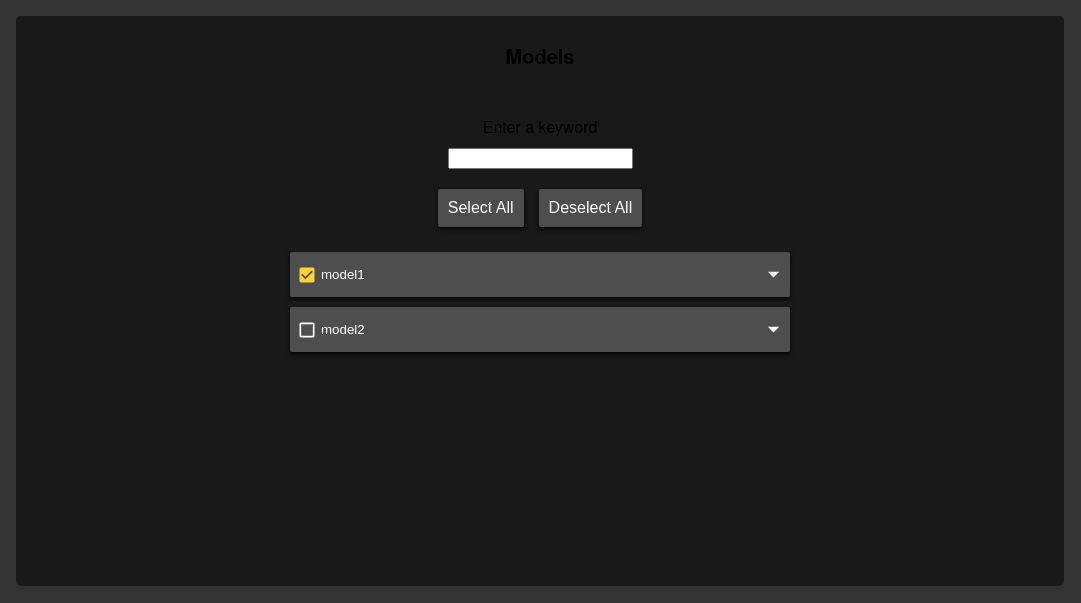
it: ModelController Component › should save search term in state
The width and height of the screenshot is (1081, 603).
Type "model2" into the field at (540, 158), box [448, 148, 632, 169]
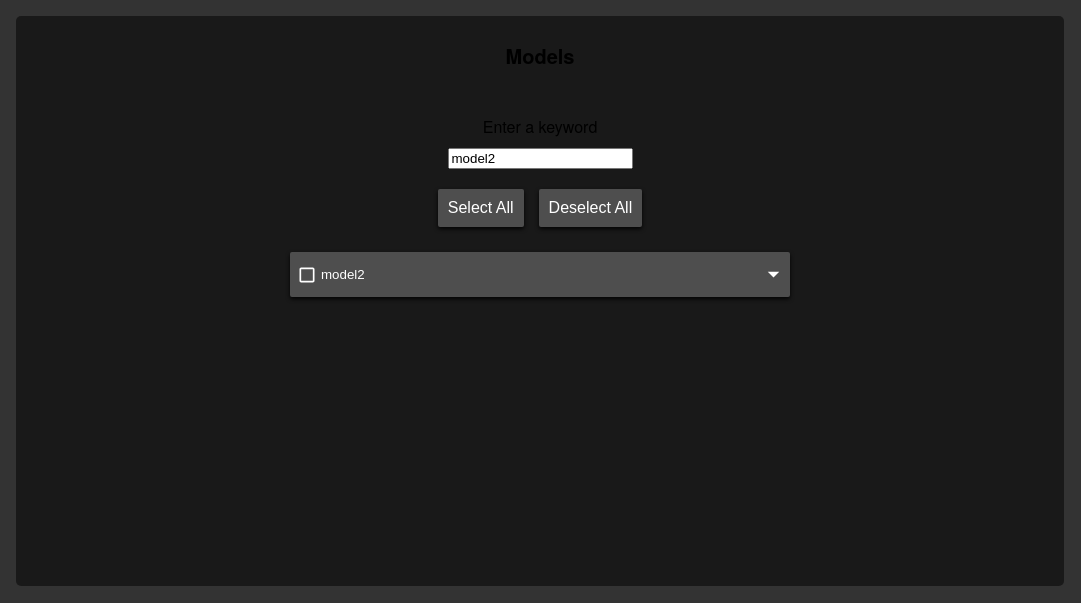
Now the button "model2" is shown, box [321, 267, 365, 282]
